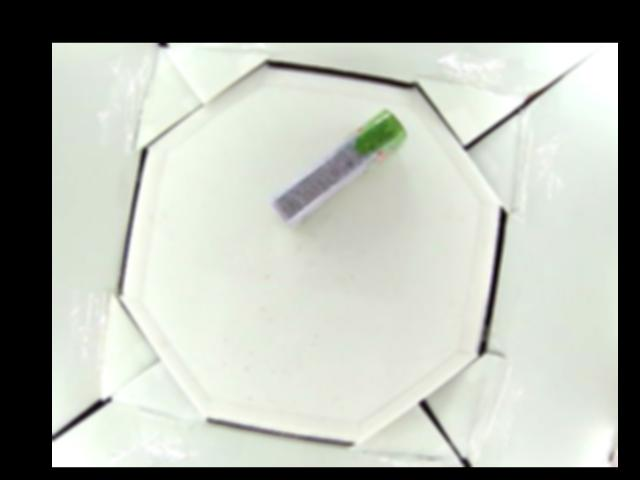Bottle: (272, 108, 411, 227)
